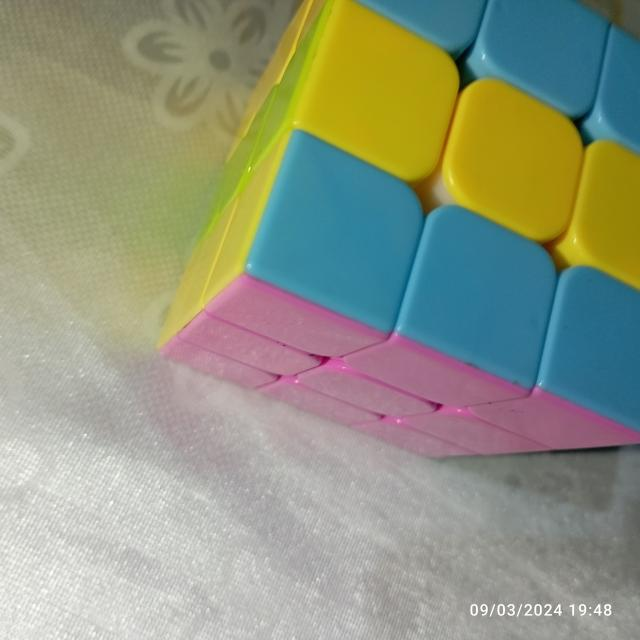Rub: (153, 0, 640, 459)
